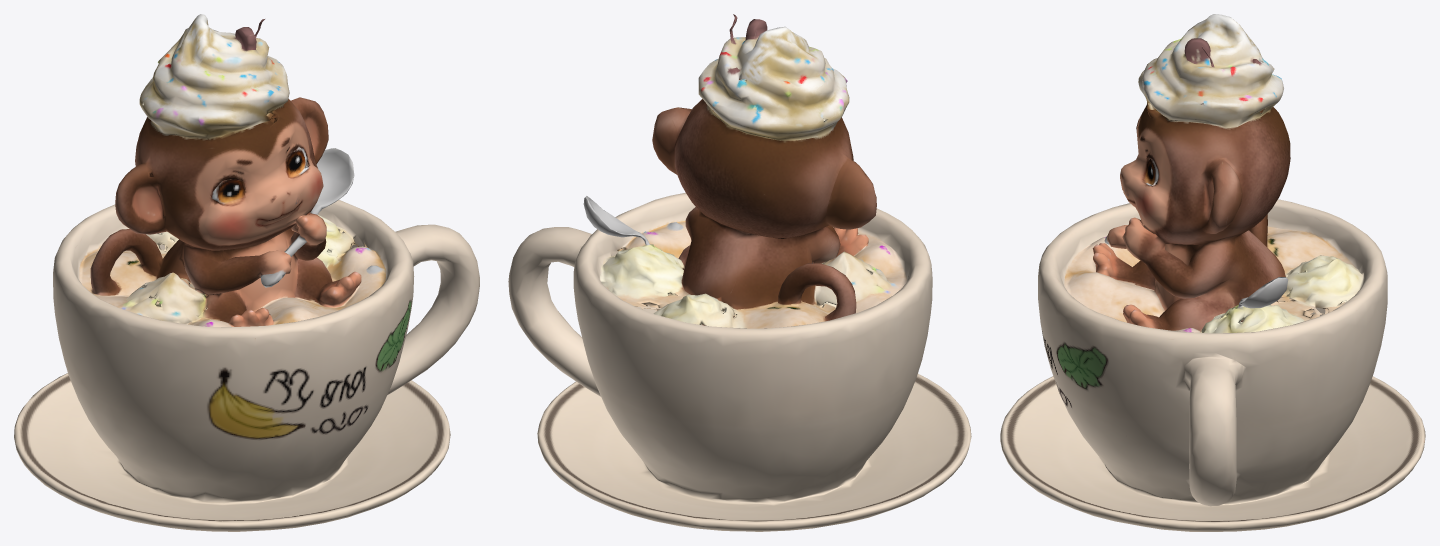
Rendered from mugchimp.glb.
3 views of the same model, side by side, from view 1: azimuth 30°, elevation 25°; view 2: azimuth 150°, elevation 25°; view 3: azimuth 270°, elevation 25° (orthographic). The views are drawn at different scales.
Visible parts, largest first — view 1: world; view 2: world; view 3: world.
Boxes of the visible parts, x1=… form: world: x1=14, y1=14, x2=479, y2=531; world: x1=508, y1=14, x2=971, y2=531; world: x1=1000, y1=14, x2=1425, y2=531.
Size of the model in its own units: 0.995 by 0.9989 by 0.8692.
Materials: 1 (1 with a texture image).
